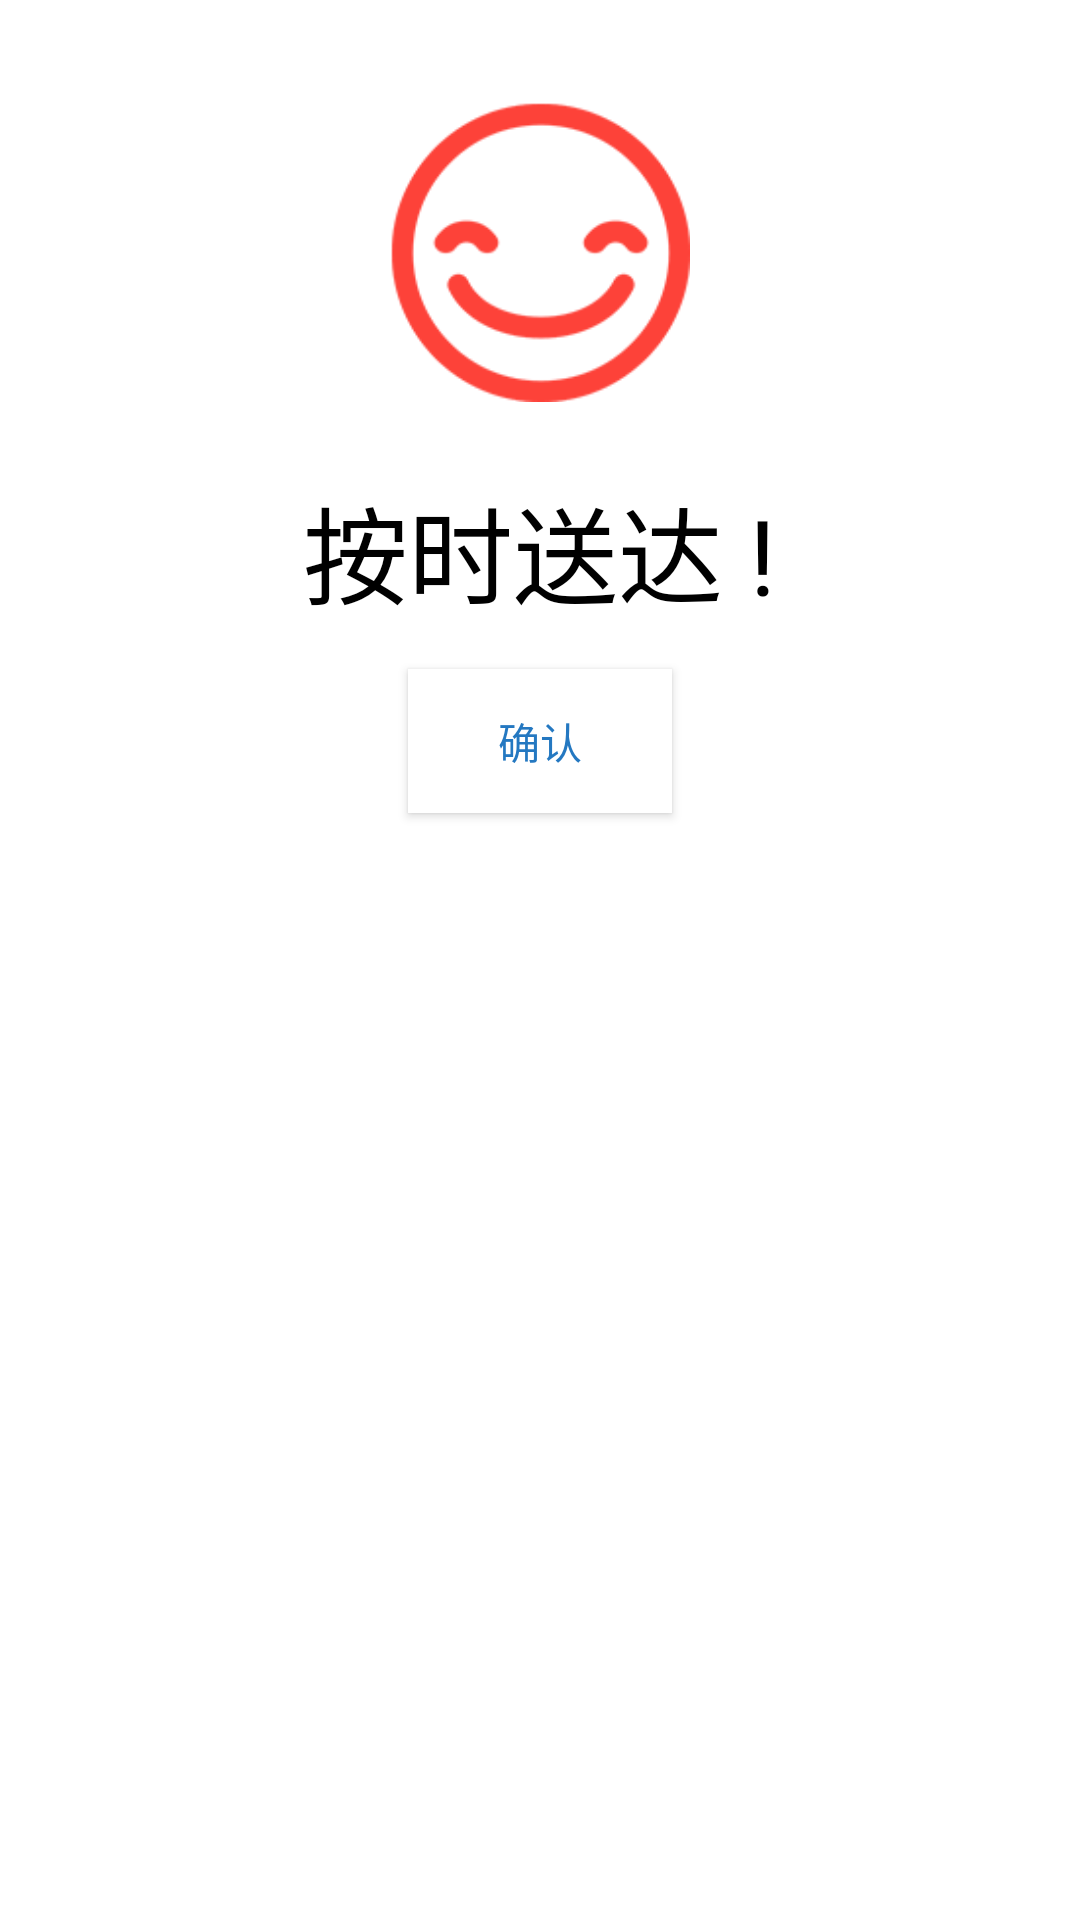

Screen size 1080px x 1920px. Icon name, then its box in pixels as region(x1, y1, x2, y2):
happy: region(391, 103, 690, 402)
